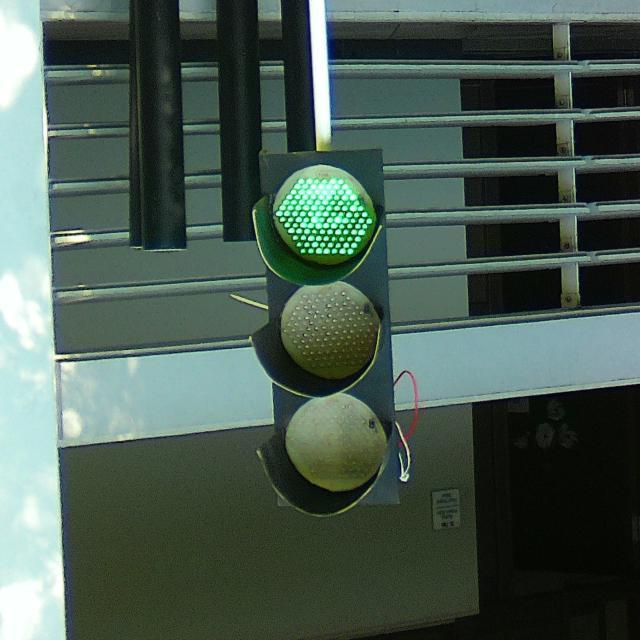green_light: (249, 134, 410, 526)
